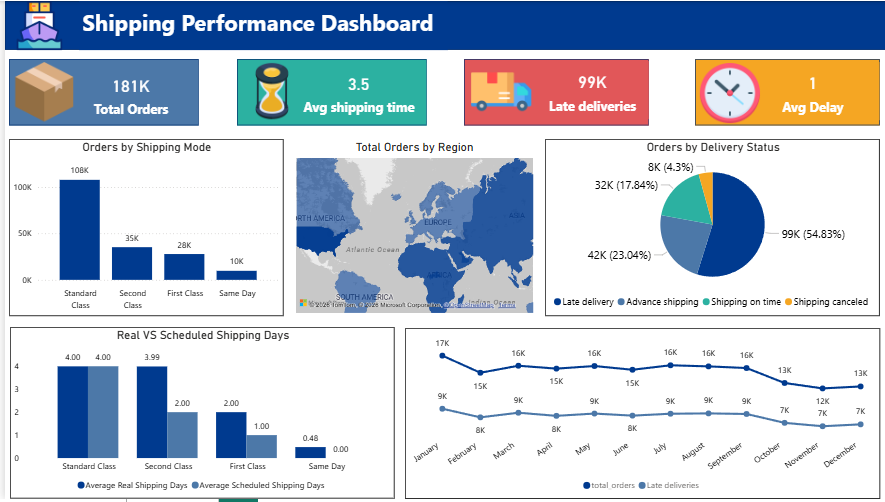

Layout of this report page (visuals, bound fields, positions):
{"tool":"powerbi","page":{"name":"Overview","canvas":[1280,720],"ordinal":0},"visuals":[{"type":"shape","box":[0,0,1279.8,70.5],"z":0},{"type":"shape","box":[6.1,84,274.4,96],"z":0,"group":"g5"},{"type":"textbox","box":[107.3,0,533.4,70.5],"z":1000},{"type":"image","box":[5.9,0,88.2,70.5],"z":2000},{"type":"clusteredColumnChart","title":"Orders by Shipping Mode","fields":{"Category":["dim_shipping.Shipping_Mode"],"Y":["measure_table.total_orders"]},"box":[5.4,200.2,396.9,255.6],"z":3000},{"type":"card","title":"Total","fields":{"Values":["measure_table.total_orders"]},"box":[85.6,92.5,193.8,83.3],"z":4000,"group":"g5"},{"type":"pieChart","title":"Orders by Delivery Status","fields":{"Category":["dim_shipping.Delivery_Status"],"Y":["measure_table.total_orders"]},"box":[781.2,200.2,484.5,255.6],"z":4000},{"type":"shape","box":[335.8,84,274.4,96],"z":5000,"group":"g4"},{"type":"group","id":"g1","title":"Group 1","box":[662.9,84.5,267.5,96],"z":5000,"group":"g3"},{"type":"clusteredColumnChart","title":"Real VS Scheduled Shipping Days","fields":{"Category":["dim_shipping.Shipping_Mode"],"Y":["Avg(dim_shipping.Days_Shipping_Real)","Avg(dim_shipping.Days_Shipping_Scheduled)"]},"box":[7.2,472,556,248.5],"z":5000},{"type":"group","id":"g2","title":"Group 2","box":[996.9,84,267,96],"z":6000,"group":"g3"},{"type":"card","title":"Total","fields":{"Values":["measure_table.Avg shipping time"]},"box":[415.7,89.6,193.8,83.3],"z":6000,"group":"g4"},{"type":"lineChart","title":"Total Orders by Month","fields":{"Category":["dim_shipping.Shipping_Date.Variation.Date Hierarchy.Month"],"Y":["measure_table.total_orders","measure_table.Late deliveries"]},"box":[578.3,472.8,686.7,247.2],"z":6000},{"type":"group","id":"g3","title":"Group 5","box":[5.4,84,1258.5,96.5],"z":7000},{"type":"group","id":"g4","title":"Group 3","box":[335.8,84,274.4,96],"z":7000,"group":"g3"},{"type":"shape","box":[662.9,84.5,267.5,96],"z":7000,"group":"g1"},{"type":"filledMap","title":"Total Orders by Region","fields":{"Category":["fact_orders.Order_Region"]},"box":[416,200.4,351.7,255.2],"z":7001},{"type":"group","id":"g5","title":"Group 4","box":[5.4,84,275.1,96],"z":8000,"group":"g3"},{"type":"card","title":"Total","fields":{"Values":["measure_table.Late deliveries"]},"box":[767,88.1,163.3,83.6],"z":8000,"group":"g1"},{"type":"shape","box":[996.9,84,267,96],"z":9000,"group":"g2"},{"type":"card","title":"Total","fields":{"Values":["measure_table.Avg Delay"]},"box":[1070.6,89,193.4,84.4],"z":10000,"group":"g2"},{"type":"image","box":[996.9,89.3,101.3,87.1],"z":11000,"group":"g2"},{"type":"image","box":[5.4,88.1,101.4,86.2],"z":12000,"group":"g5"},{"type":"image","box":[335.8,87.6,101.3,87.1],"z":13000,"group":"g4"},{"type":"image","box":[667.8,88.6,98.9,86.2],"z":14000,"group":"g1"}]}

Visuals, with their boxes in screenshot pixels (x1, y1, x2, y2), scaled from the page's 1280x720 canvas onto the 885x502 screenshot:
shape: 0,0,884,49
shape: 4,59,194,126
textbox: 74,0,443,49
image: 4,0,65,49
"Orders by Shipping Mode" clusteredColumnChart: 4,140,278,318
"Total" card: 59,64,193,123
"Orders by Delivery Status" pieChart: 540,140,875,318
shape: 232,59,422,126
"Group 1" group: 458,59,643,126
"Real VS Scheduled Shipping Days" clusteredColumnChart: 5,329,389,501
"Group 2" group: 689,59,874,126
"Total" card: 287,62,421,121
"Total Orders by Month" lineChart: 400,330,875,501
"Group 5" group: 4,59,874,126
"Group 3" group: 232,59,422,126
shape: 458,59,643,126
"Total Orders by Region" filledMap: 288,140,531,318
"Group 4" group: 4,59,194,126
"Total" card: 530,61,643,120
shape: 689,59,874,126
"Total" card: 740,62,874,121
image: 689,62,759,123
image: 4,61,74,122
image: 232,61,302,122
image: 462,62,530,122
